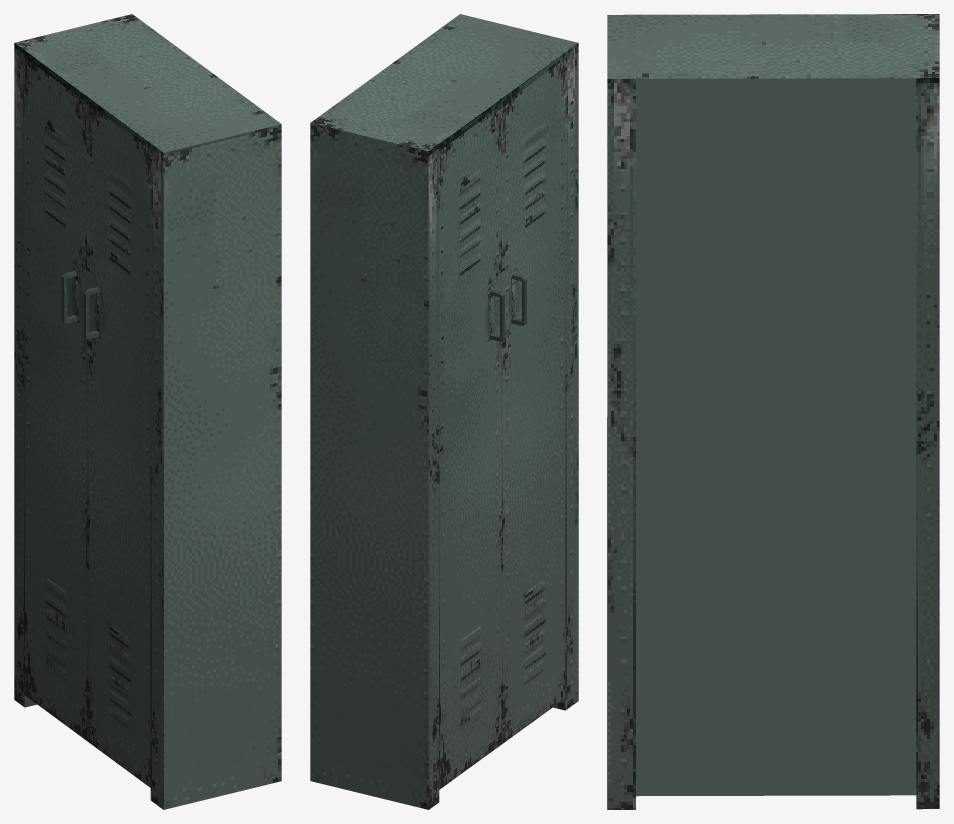
File: storage.glb
The picture shows the model from 3 angles, left to right: view 1: azimuth 30°, elevation 25°; view 2: azimuth 150°, elevation 25°; view 3: azimuth 270°, elevation 25°; orthographic projection. The views are drawn at different scales.
Visible parts, largest first — view 1: Cube; view 2: Cube; view 3: Cube.
Boxes of the visible parts, x1,y1,x2,y2 form: Cube: (14,14,281,809); Cube: (310,14,578,809); Cube: (607,14,939,809).
Size of the model in its own units: 0.7125 by 3.41 by 1.41.
Materials: 2 (2 with a texture image).
